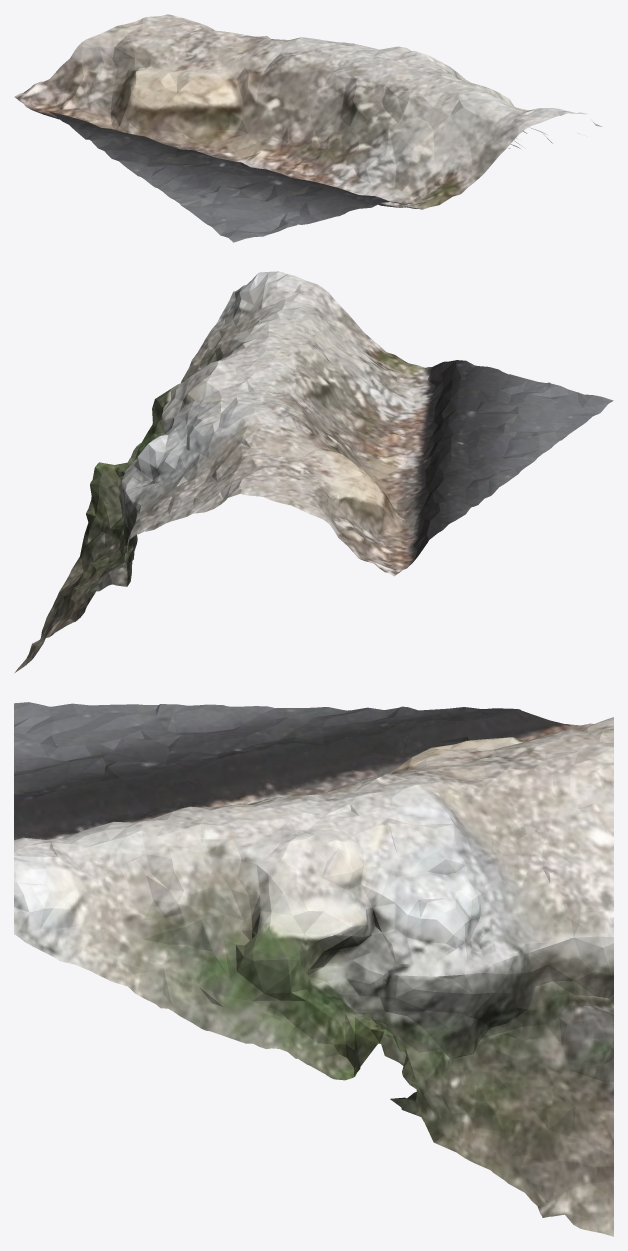
3 renders of one model, top to bottom at view 1: azimuth 30°, elevation 25°; view 2: azimuth 150°, elevation 25°; view 3: azimuth 270°, elevation 25°, orthographic. The views are drawn at different scales.
Bounding box in the file's own units: 2.95 × 1.87 × 2.95.
Materials: 3 (3 with a texture image).
